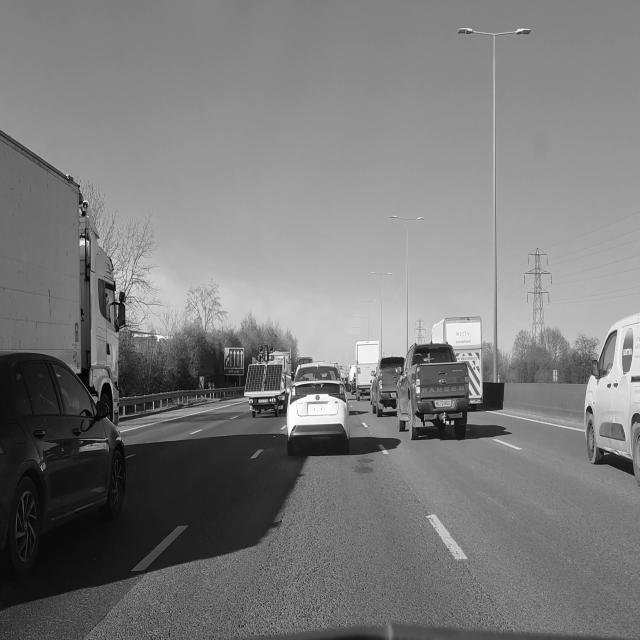car: (0, 353, 125, 575), (585, 315, 639, 484), (395, 338, 474, 447), (287, 363, 349, 455), (371, 357, 404, 416)
